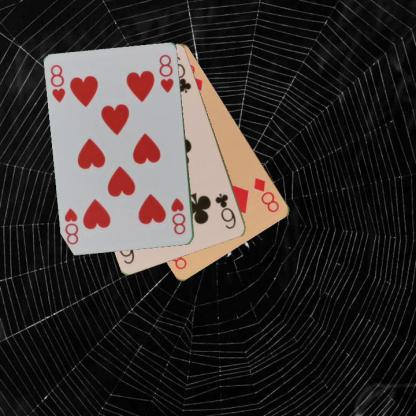6c: (212, 191, 237, 231)
8d: (251, 175, 282, 214)
8h: (48, 62, 67, 104), (169, 196, 187, 236)
